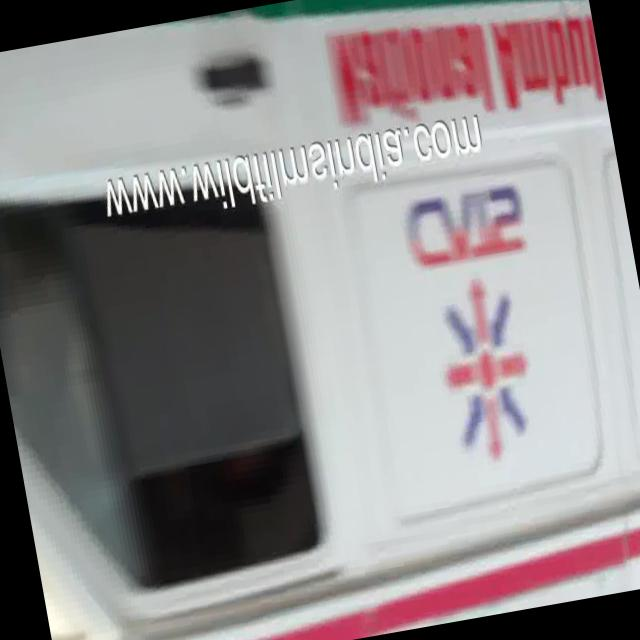ambulance: (298, 0, 640, 502)
